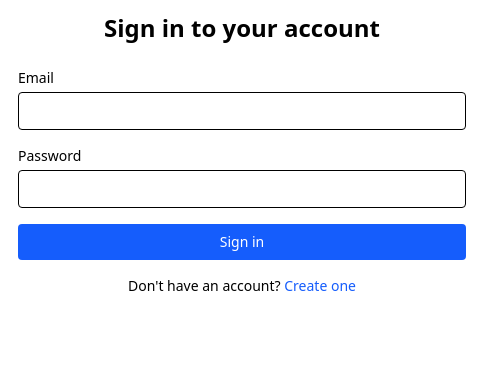
Test: AuthFlow — failure › displays error alert and leaves auth state empty on invalid credentials
Type "wrong@example.com" into the field labelled "Email" at {"x": 242, "y": 111}, box [18, 92, 466, 130]
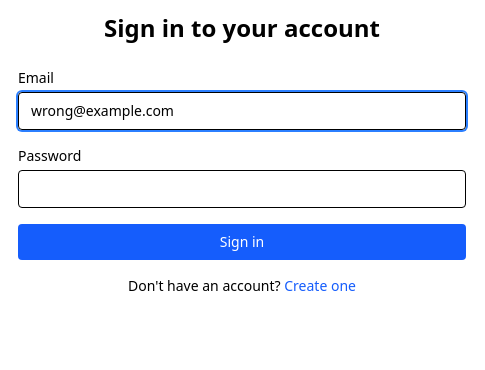
Type "badpass" into the password field labelled "Password" at {"x": 242, "y": 189}, box [18, 170, 466, 208]
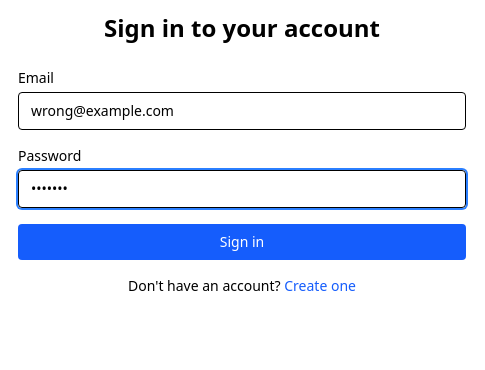
Click the button "Sign in" at {"x": 242, "y": 242}, box [18, 224, 466, 260]
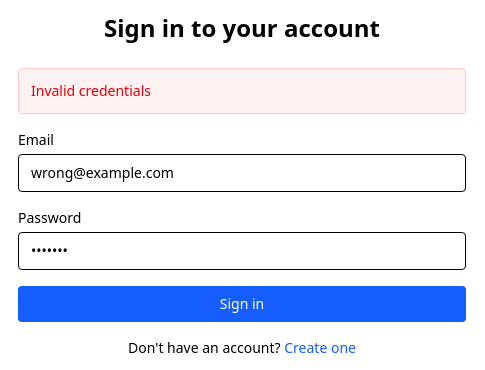
Result: the message "Invalid credentials" is shown at [18, 68, 466, 114]
